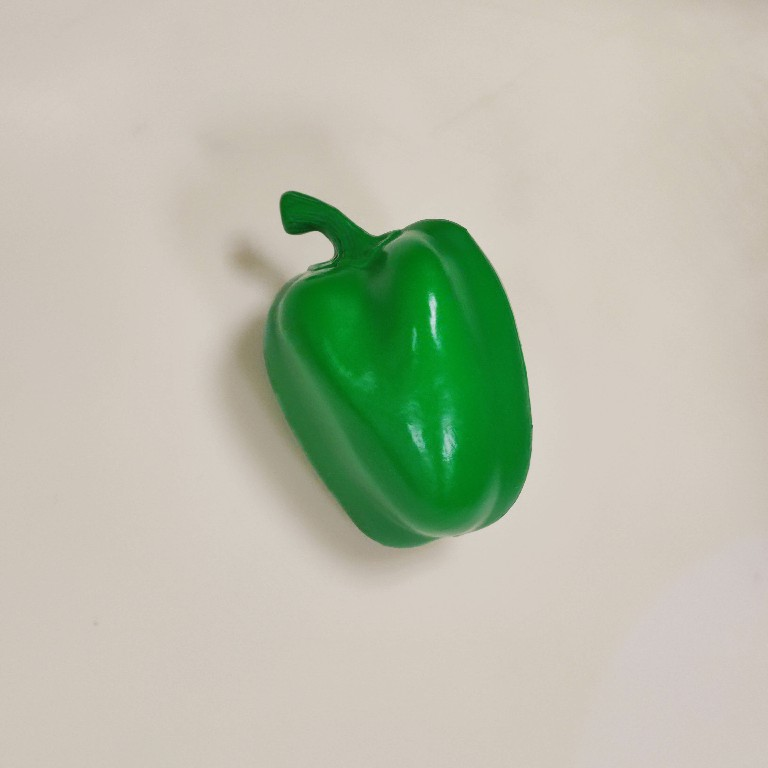fruit_pepper: (255, 183, 539, 553)
